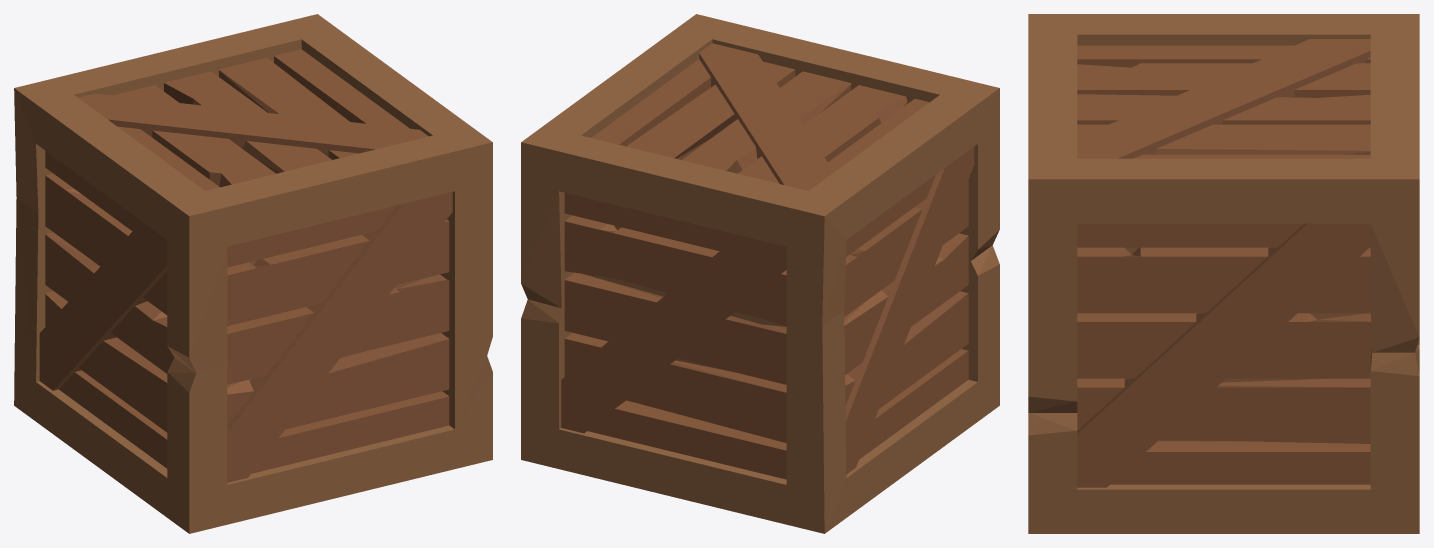
The model's file is crate_b_lod.glb.
3 renders of one model, left to right at view 1: azimuth 30°, elevation 25°; view 2: azimuth 150°, elevation 25°; view 3: azimuth 270°, elevation 25°, orthographic. The views are drawn at different scales.
Parts seen in each view (by area): view 1: Crate; view 2: Crate; view 3: Crate.
Boxes of the visible parts, box(x1,y1,x2,y2) form: Crate: box(14, 14, 492, 533); Crate: box(521, 14, 999, 533); Crate: box(1028, 14, 1419, 533).
Bounding box in the file's own units: 1 × 1 × 1.
